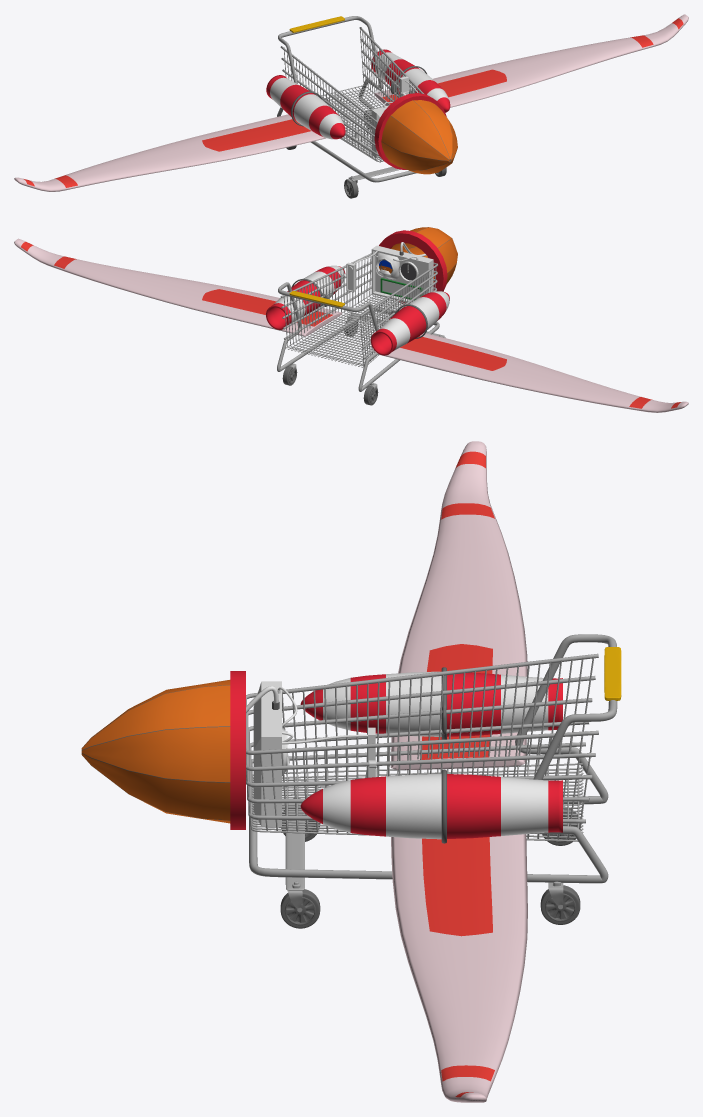
Rendered from stozek2.fbx.
The picture shows the model from 3 angles, top to bottom: view 1: azimuth 30°, elevation 25°; view 2: azimuth 150°, elevation 25°; view 3: azimuth 270°, elevation 25°; orthographic projection. The views are drawn at different scales.
Parts seen in each view (by area): view 1: Cube.004, Cylinder.004, Poziome, Booster.002, poprzeczne, Booster, Frama, Cylinder.002, pion, Osłona; view 2: Cube.004, Poziome, Booster.002, poprzeczne, Booster, Frama, pion, Cube, Cylinder.002, Cylinder.004, Wyswietlacz, Cube.002 (+2 smaller); view 3: Cube.004, Cylinder.004, Booster, poprzeczne, Booster.002, Poziome, Frama, pion, Cube, Cylinder.002, Podpora, Koło NE (+1 smaller).
Part boxes in pixels (bbox=[...]): Cube.004: bbox=[14, 14, 688, 191]; Cylinder.004: bbox=[381, 100, 457, 174]; Poziome: bbox=[284, 29, 419, 159]; Booster.002: bbox=[266, 75, 345, 139]; poprzeczne: bbox=[280, 27, 423, 155]; Booster: bbox=[371, 49, 450, 112]; Frama: bbox=[277, 16, 416, 182]; Cylinder.002: bbox=[374, 93, 446, 169]; pion: bbox=[321, 85, 383, 162]; Osłona: bbox=[289, 16, 344, 32]; Cube.004: bbox=[14, 238, 688, 412]; Poziome: bbox=[283, 257, 433, 366]; Booster.002: bbox=[370, 291, 449, 355]; poprzeczne: bbox=[280, 253, 437, 359]; Booster: bbox=[266, 265, 345, 329]; Frama: bbox=[277, 282, 439, 391]; pion: bbox=[285, 267, 436, 367]; Cube: bbox=[371, 245, 433, 302]; Cylinder.002: bbox=[379, 230, 447, 304]; Cylinder.004: bbox=[391, 227, 457, 284]; Wyswietlacz: bbox=[380, 278, 422, 300]; Cube.002: bbox=[375, 252, 399, 279]; Cube.004: bbox=[390, 441, 527, 1102]; Cylinder.004: bbox=[81, 680, 230, 823]; Booster: bbox=[300, 773, 562, 839]; poprzeczne: bbox=[246, 653, 598, 823]; Booster.002: bbox=[300, 671, 562, 736]; Poziome: bbox=[260, 656, 594, 839]; Frama: bbox=[249, 634, 617, 883]; pion: bbox=[246, 754, 583, 841]; Cube: bbox=[253, 681, 281, 826]; Cylinder.002: bbox=[230, 671, 245, 829]; Podpora: bbox=[285, 810, 304, 890]; Koło NE: bbox=[280, 889, 320, 928].
Size of the model in its own units: 1063 by 160 by 370.
